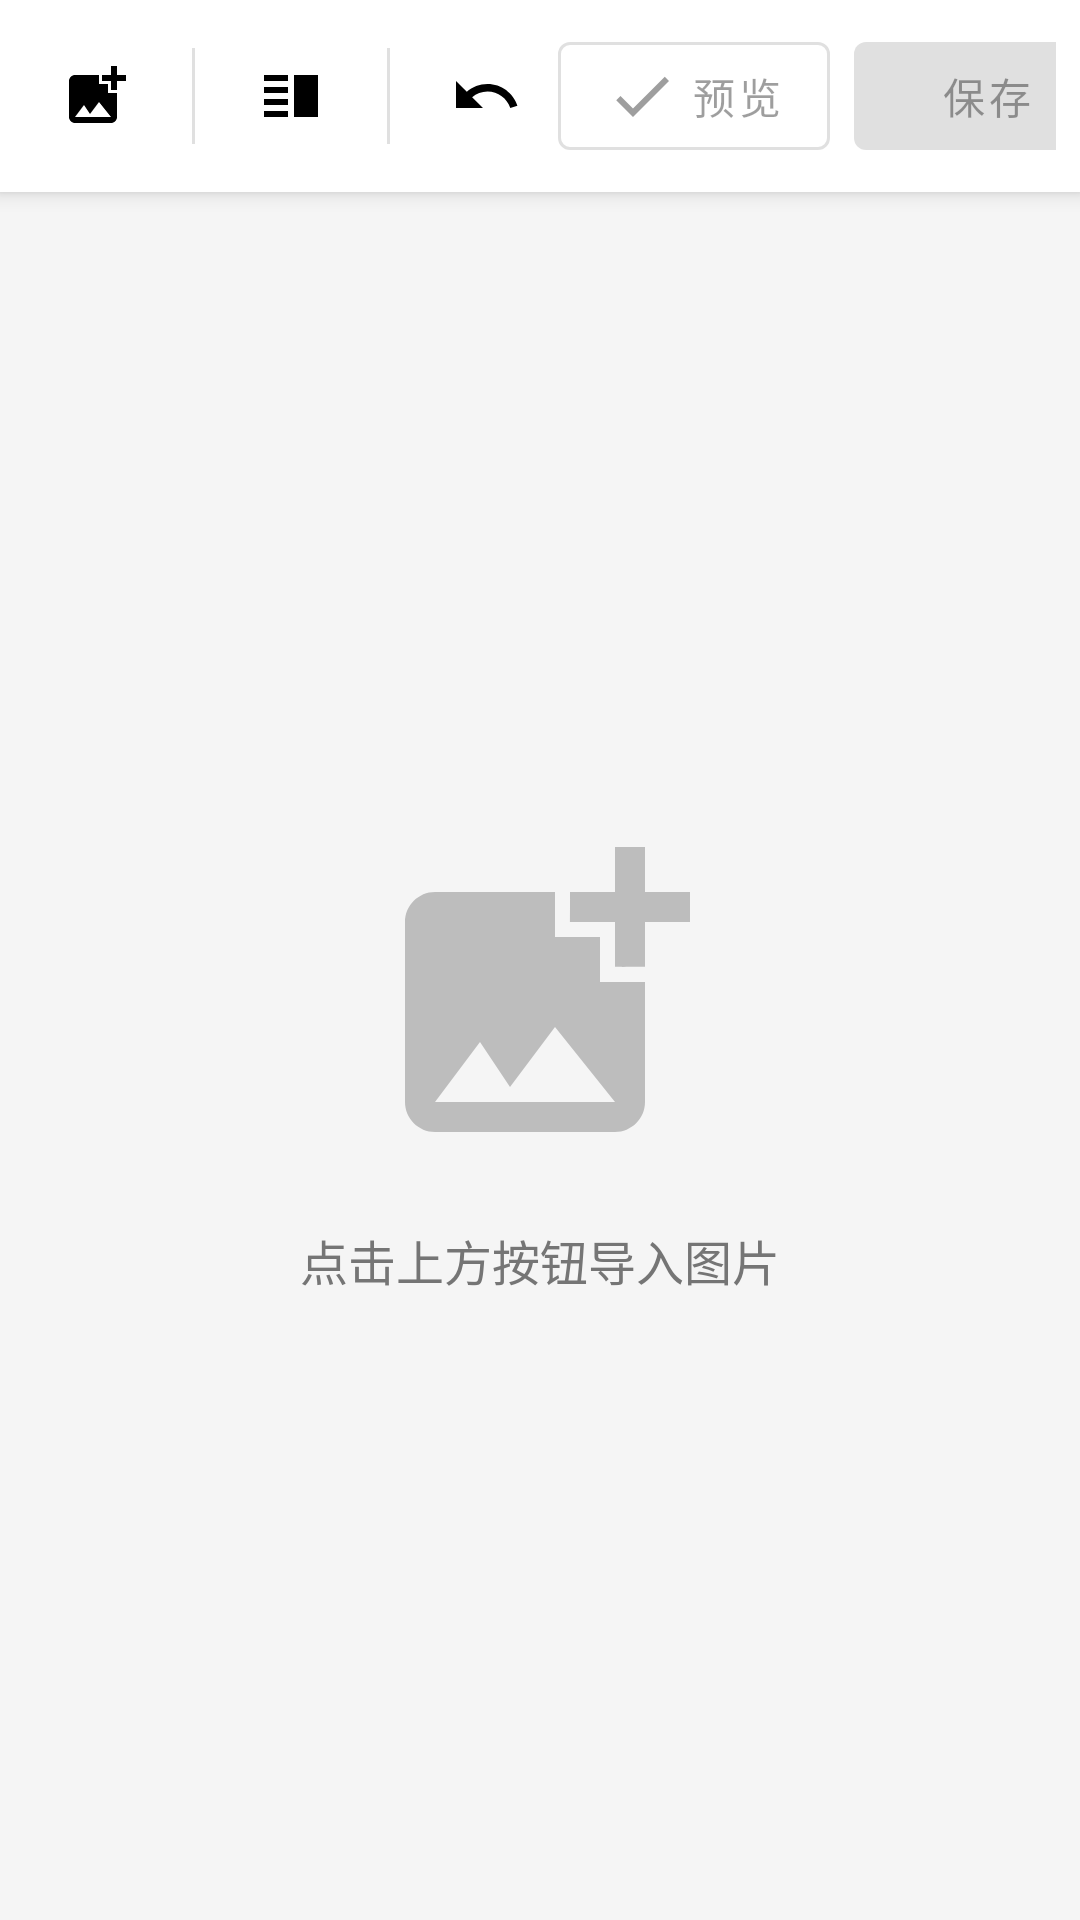

Screen size 1080*1920. Icon name, then its box in pixels as (x1, y1, x2, y2):
导入图片: (69, 66, 126, 123)
撤销: (456, 81, 518, 108)
空状态: (405, 847, 690, 1132)
